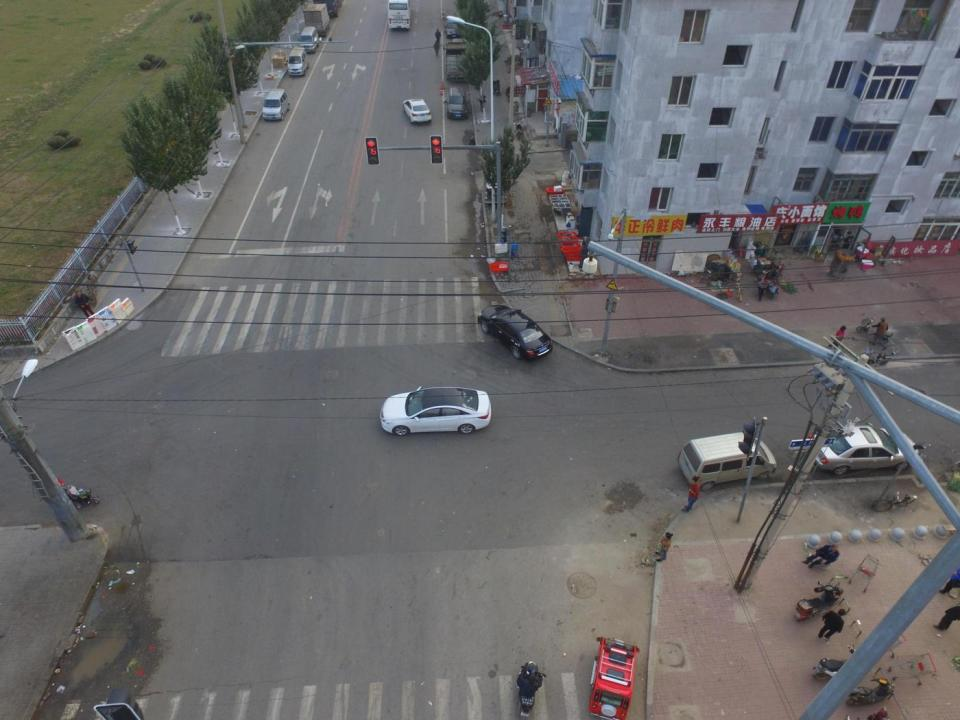bus: (385, 0, 411, 29)
car: (808, 421, 919, 477), (379, 386, 492, 436), (478, 304, 554, 360), (262, 87, 291, 120), (446, 86, 469, 120), (403, 99, 432, 125)
truck: (302, 3, 330, 36)
van: (677, 432, 777, 491), (287, 47, 309, 77), (298, 26, 320, 54)
